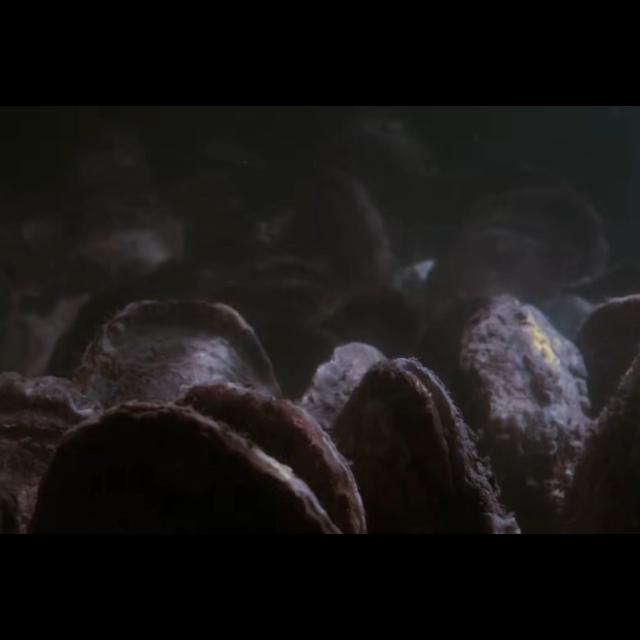Oyster-Closed: (30, 401, 338, 535), (173, 380, 364, 534), (0, 370, 104, 534)
Oyster-Indeterminate: (73, 300, 281, 534), (454, 294, 592, 534), (424, 184, 610, 328), (297, 342, 391, 534), (282, 166, 398, 302), (64, 202, 186, 288), (574, 293, 640, 443)
Oyster-Open: (329, 357, 519, 535), (216, 253, 336, 323)
